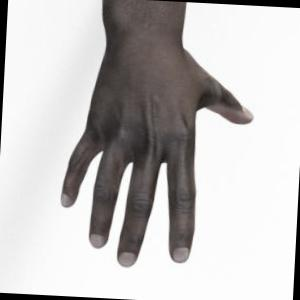paper: (61, 0, 252, 266)
